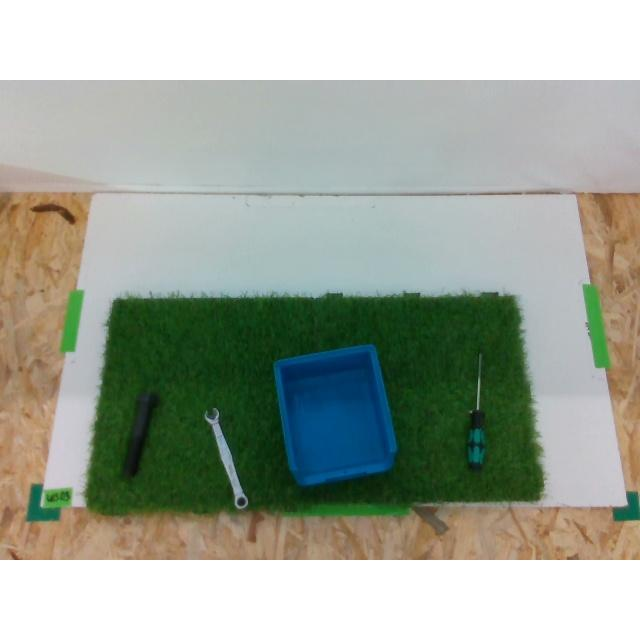F20_20_B: (122, 392, 158, 476)
Screwdriver: (466, 352, 486, 470)
Wrench: (205, 408, 248, 508)
container_box_blue: (274, 346, 396, 486)
